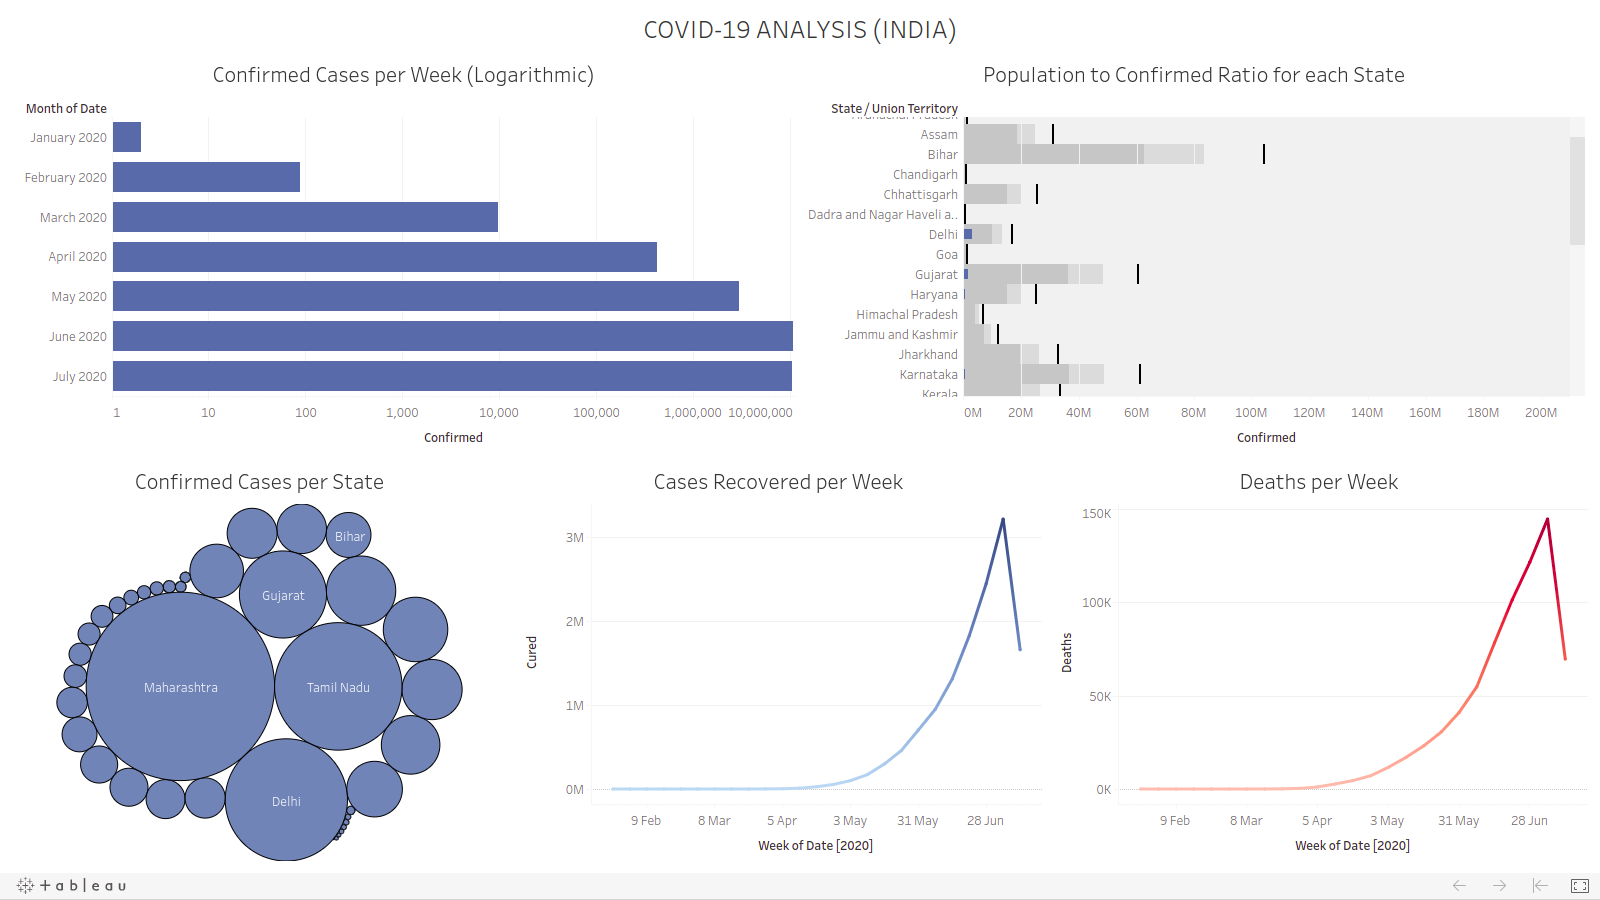

The page's visual inventory and layout, read from the dashboard file:
{"tool":"tableau","page":{"name":"Dashboard 1","canvas":[1000,1000],"units":"permille","ordinal":0},"visuals":[{"type":"worksheet","box":[0,0,1000,1000]},{"type":"worksheet","param":"vert","box":[5.8,11.1,988.5,977.9]},{"type":"worksheet","box":[5.8,11.1,988.5,58]},{"type":"worksheet","box":[5.8,69.1,988.5,919.9]},{"type":"worksheet","title":"Sheet 1","mark":"Bar","rows":["Date"],"cols":["Confirmed"],"box":[5.8,69.1,493.9,459.9]},{"type":"worksheet","title":"Sheet 5","mark":"Automatic","rows":["State / Union Territory"],"cols":["Confirmed"],"box":[499.6,69.1,494.6,459.9]},{"type":"worksheet","title":"Sheet 4","mark":"Circle","box":[5.8,529,313.9,459.9]},{"type":"worksheet","title":"Sheet 1 (3)","mark":"Automatic","rows":["Cured"],"cols":["Date"],"box":[319.7,529,334.1,459.9]},{"type":"worksheet","title":"Sheet 1 (2)","mark":"Automatic","rows":["Deaths"],"cols":["Date"],"box":[653.7,529,340.5,459.9]}]}

Visuals, with their boxes on the dashboard's canvas, which has no fixed pixel size, in thousandths of its width and height (x1, y1, x2, y2). These are canvas units, not pixel positions in the 1600x900 screenshot, which may show the page scaled, cropped or inside an application window:
worksheet: rect(0, 0, 1000, 1000)
worksheet: rect(6, 11, 994, 989)
worksheet: rect(6, 11, 994, 69)
worksheet: rect(6, 69, 994, 989)
"Sheet 1" worksheet (Bar marks): rect(6, 69, 500, 529)
"Sheet 5" worksheet: rect(500, 69, 994, 529)
"Sheet 4" worksheet (Circle marks): rect(6, 529, 320, 989)
"Sheet 1 (3)" worksheet: rect(320, 529, 654, 989)
"Sheet 1 (2)" worksheet: rect(654, 529, 994, 989)
